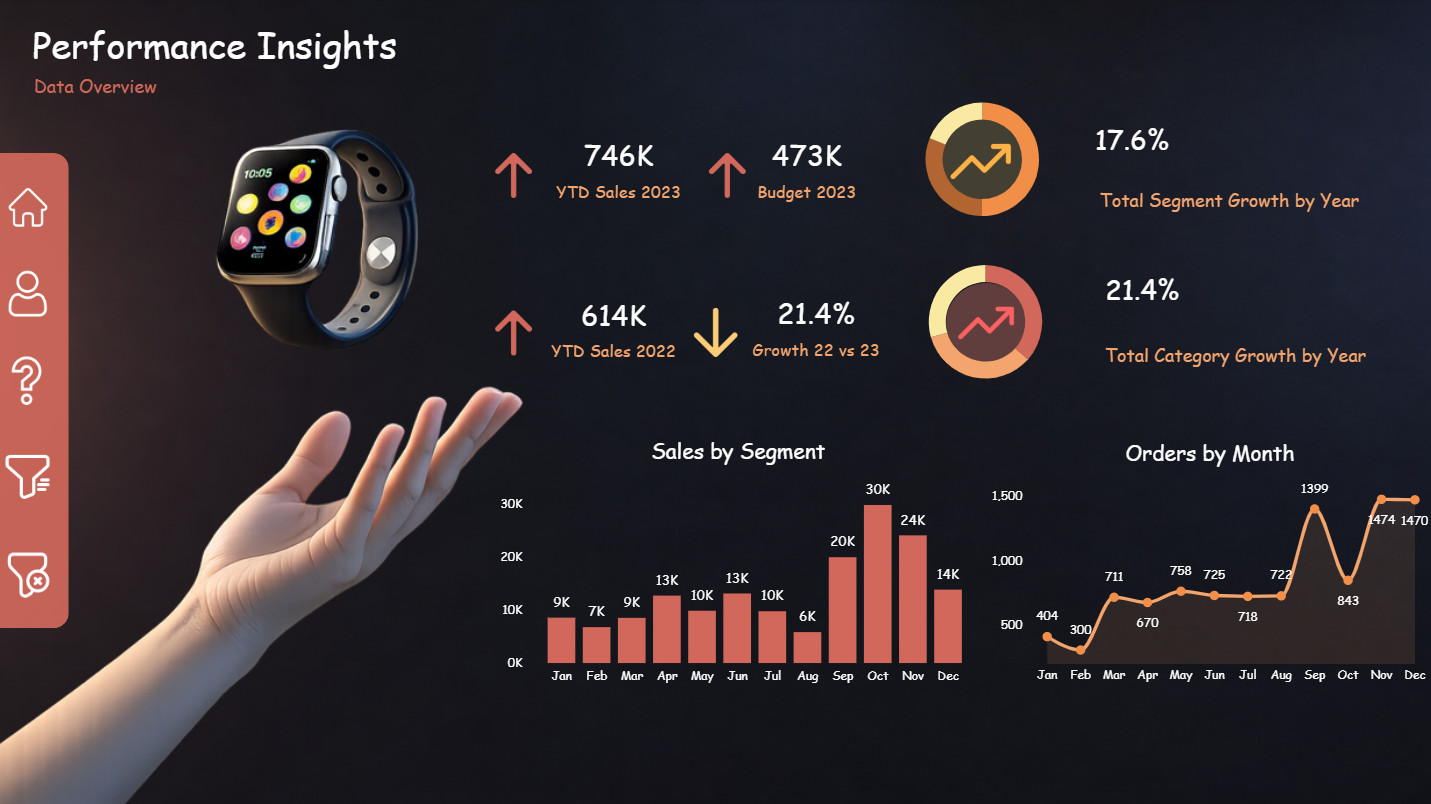

The page's visual inventory and layout, read from the dashboard file:
{"tool":"powerbi","page":{"name":"Duplicate of Page 3","canvas":[1280,720],"ordinal":0},"visuals":[{"type":"image","box":[830,102.5,91.7,86.9],"z":0},{"type":"group","id":"g1","title":"Group 6","box":[0,138.4,64,423.3],"z":0,"group":"g2"},{"type":"shape","box":[0,138.4,64,423.3],"z":0,"group":"g1"},{"type":"image","box":[5.2,158.1,44.5,57.4],"z":0,"group":"g3"},{"type":"image","box":[840.9,248.5,80.8,82],"z":1000},{"type":"image","box":[0,312.8,53.1,56.3],"z":1000,"group":"g3"},{"type":"image","box":[0,390,54.7,73.3],"z":1000,"group":"g1"},{"type":"donutChart","title":"Sales 2023 by Category","fields":{"Y":["Orders.Current_year_sales"],"Category":["Orders.Category"]},"box":[751.6,220.8,258.2,136.3],"z":2000},{"type":"image","box":[0,482.1,54.7,64.4],"z":2000,"group":"g3"},{"type":"donutChart","title":"Sales 2023 by Segment","fields":{"Y":["Orders.Total_Sales"],"Category":["Orders.Segment"]},"box":[763.7,76,228,136.3],"z":3000},{"type":"image","box":[5.8,235.4,50.4,56.8],"z":3000,"group":"g3"},{"type":"columnChart","title":"Sales by Segment","fields":{"Category":["Orders.Month"],"Series":["Orders.Segment"],"Y":["Orders.Current_year_sales"]},"box":[442.8,389.7,434.3,232.8],"z":4000},{"type":"lineChart","title":"Orders by Month","fields":{"Category":["Orders.Month"],"Y":["CountNonNull(Orders.Customer ID)"]},"box":[880.7,392.1,399.3,230.4],"z":5000},{"type":"card","fields":{"Values":["Orders.Current_year_sales"]},"box":[460.9,95.7,185.9,111.3],"z":6000},{"type":"card","fields":{"Values":["Orders.Previous_year_sales"]},"box":[460.9,242.7,177,101.3],"z":7000},{"type":"card","fields":{"Values":["Orders.Sales_growth"]},"box":[640.1,241.6,179.2,101.3],"z":8000},{"type":"card","fields":{"Values":["Orders.Current_year_sales"]},"box":[623.4,89.1,195.9,124.7],"z":9000},{"type":"card","fields":{"Values":["Orders.Sales_growth"]},"box":[957.9,224.4,123.1,72.4],"z":10000},{"type":"card","fields":{"Values":["Orders.Sales_growth"]},"box":[959.1,85.7,102.5,84.5],"z":11000},{"type":"shape","box":[955.5,283.5,295.6,67.6],"z":12000},{"type":"shape","box":[955.5,138.7,284.7,82],"z":13000},{"type":"textbox","box":[26.5,14.5,495.8,59.1],"z":14000},{"type":"group","id":"g2","title":"Side-Nav","box":[0,138.4,64,423.3],"z":15000},{"type":"group","id":"g3","title":"Group 5","box":[0,158.1,55.8,388.4],"z":17000},{"type":"textbox","box":[27.7,62.7,167.7,44.6],"z":18000},{"type":"image","box":[435.3,132.5,50.1,51.2],"z":19000},{"type":"image","box":[625.6,132.5,50.1,51.2],"z":20000},{"type":"image","box":[435.3,272.7,50.1,51.2],"z":21000},{"type":"image","box":[604.5,263.8,71.2,67.9],"z":22000}]}

Visuals, with their boxes in screenshot pixels (x1, y1, x2, y2), scaled from the page's 1280x720 canvas onto the 1431x804 screenshot:
image: (x1=928, y1=114, x2=1030, y2=211)
"Group 6" group: (x1=0, y1=155, x2=72, y2=627)
shape: (x1=0, y1=155, x2=72, y2=627)
image: (x1=6, y1=177, x2=56, y2=241)
image: (x1=940, y1=277, x2=1030, y2=369)
image: (x1=0, y1=349, x2=59, y2=412)
image: (x1=0, y1=436, x2=61, y2=517)
"Sales 2023 by Category" donutChart: (x1=840, y1=247, x2=1129, y2=399)
image: (x1=0, y1=538, x2=61, y2=610)
"Sales 2023 by Segment" donutChart: (x1=854, y1=85, x2=1109, y2=237)
image: (x1=6, y1=263, x2=63, y2=326)
"Sales by Segment" columnChart: (x1=495, y1=435, x2=981, y2=695)
"Orders by Month" lineChart: (x1=985, y1=438, x2=1430, y2=695)
card - Orders.Current_year_sales: (x1=515, y1=107, x2=723, y2=231)
card - Orders.Previous_year_sales: (x1=515, y1=271, x2=713, y2=384)
card - Orders.Sales_growth: (x1=716, y1=270, x2=916, y2=383)
card - Orders.Current_year_sales: (x1=697, y1=99, x2=916, y2=239)
card - Orders.Sales_growth: (x1=1071, y1=251, x2=1209, y2=331)
card - Orders.Sales_growth: (x1=1072, y1=96, x2=1187, y2=190)
shape: (x1=1068, y1=317, x2=1399, y2=392)
shape: (x1=1068, y1=155, x2=1387, y2=246)
textbox: (x1=30, y1=16, x2=584, y2=82)
"Side-Nav" group: (x1=0, y1=155, x2=72, y2=627)
"Group 5" group: (x1=0, y1=177, x2=62, y2=610)
textbox: (x1=31, y1=70, x2=218, y2=120)
image: (x1=487, y1=148, x2=543, y2=205)
image: (x1=699, y1=148, x2=755, y2=205)
image: (x1=487, y1=305, x2=543, y2=362)
image: (x1=676, y1=295, x2=755, y2=370)
